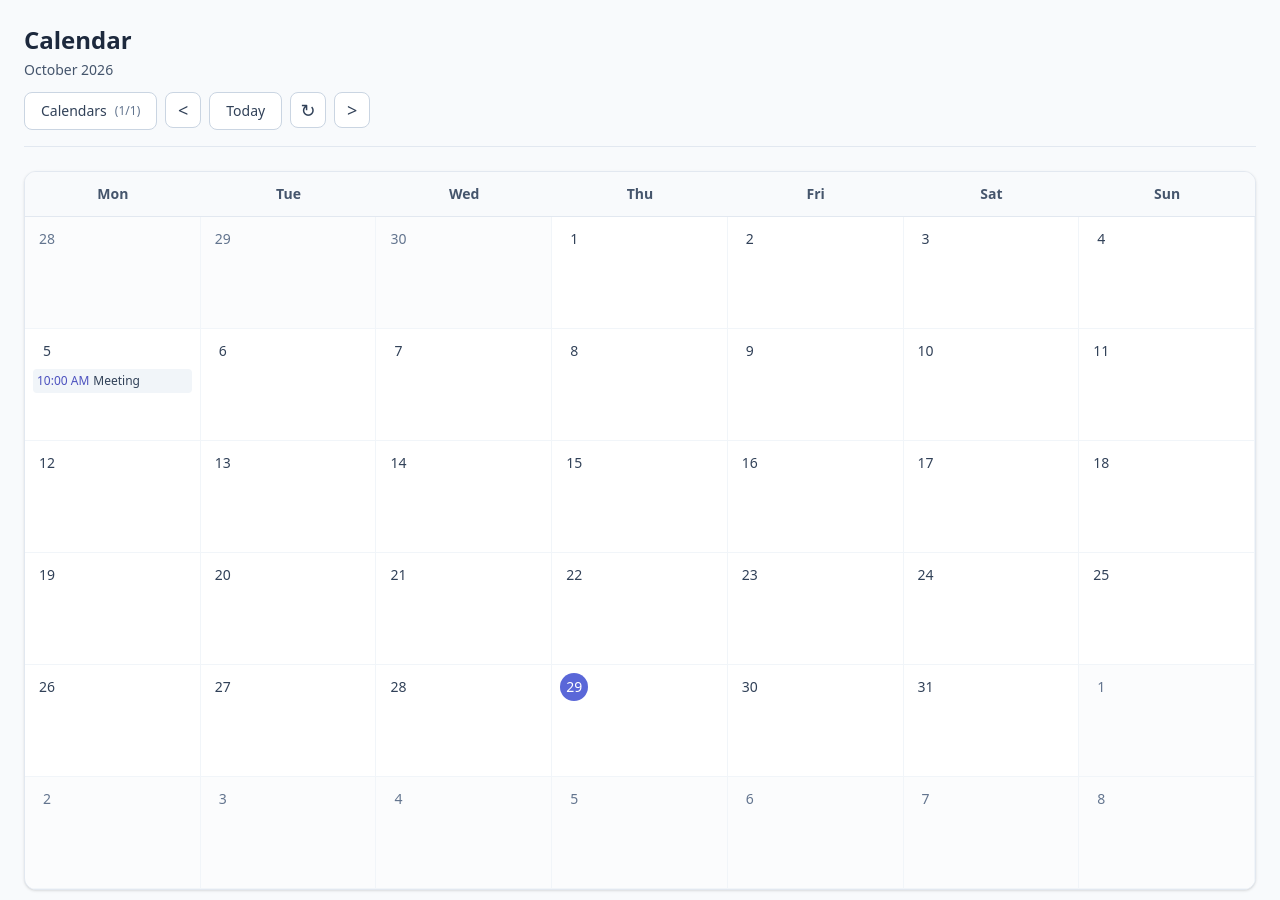
Calendar › shows "No profile found" when no person matches the attendee
The width and height of the screenshot is (1280, 900).
Click the text "Meeting": coordinates (117, 380) [93,372,140,389]
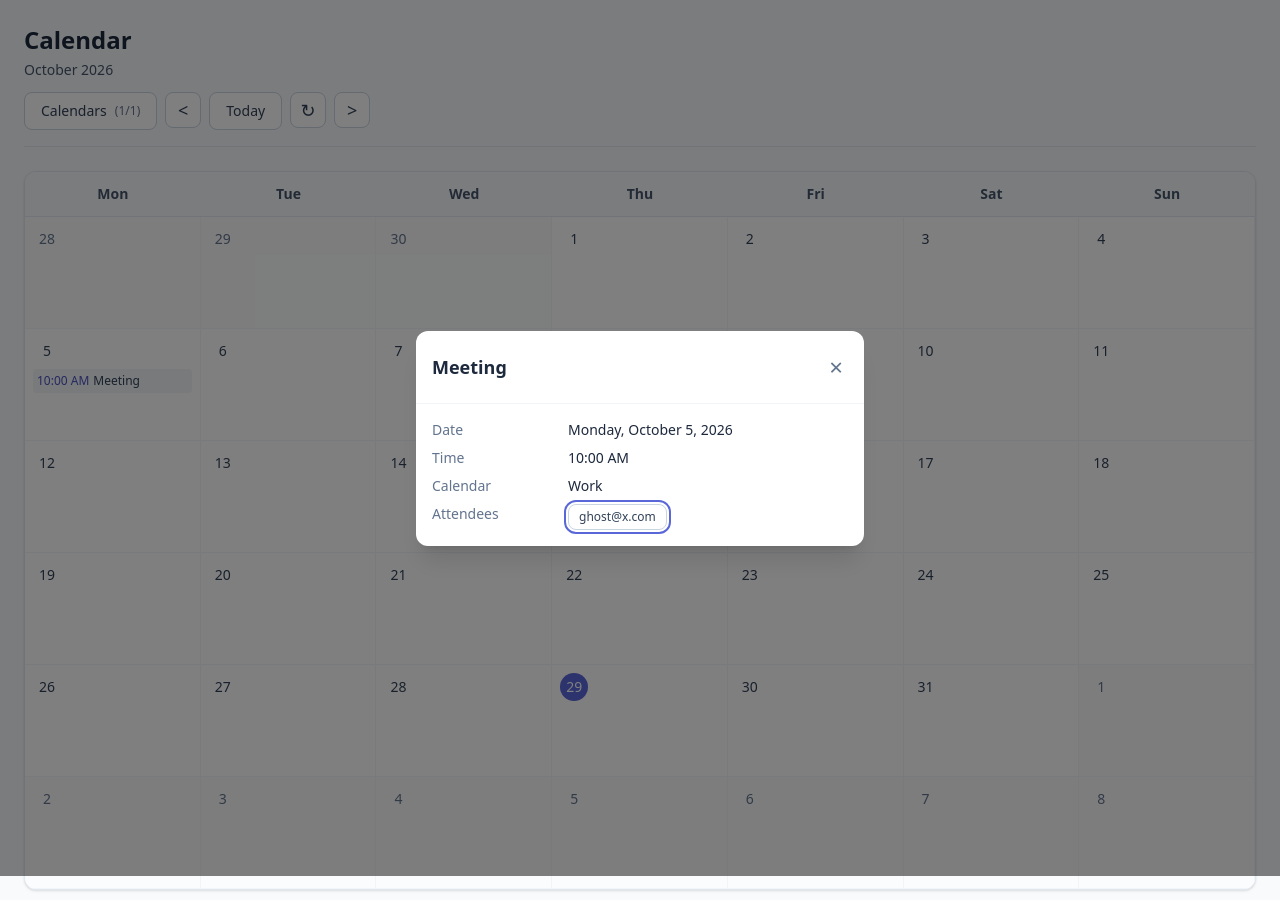
Click the button "ghost@x.com": coordinates (617, 516) [568,504,667,530]
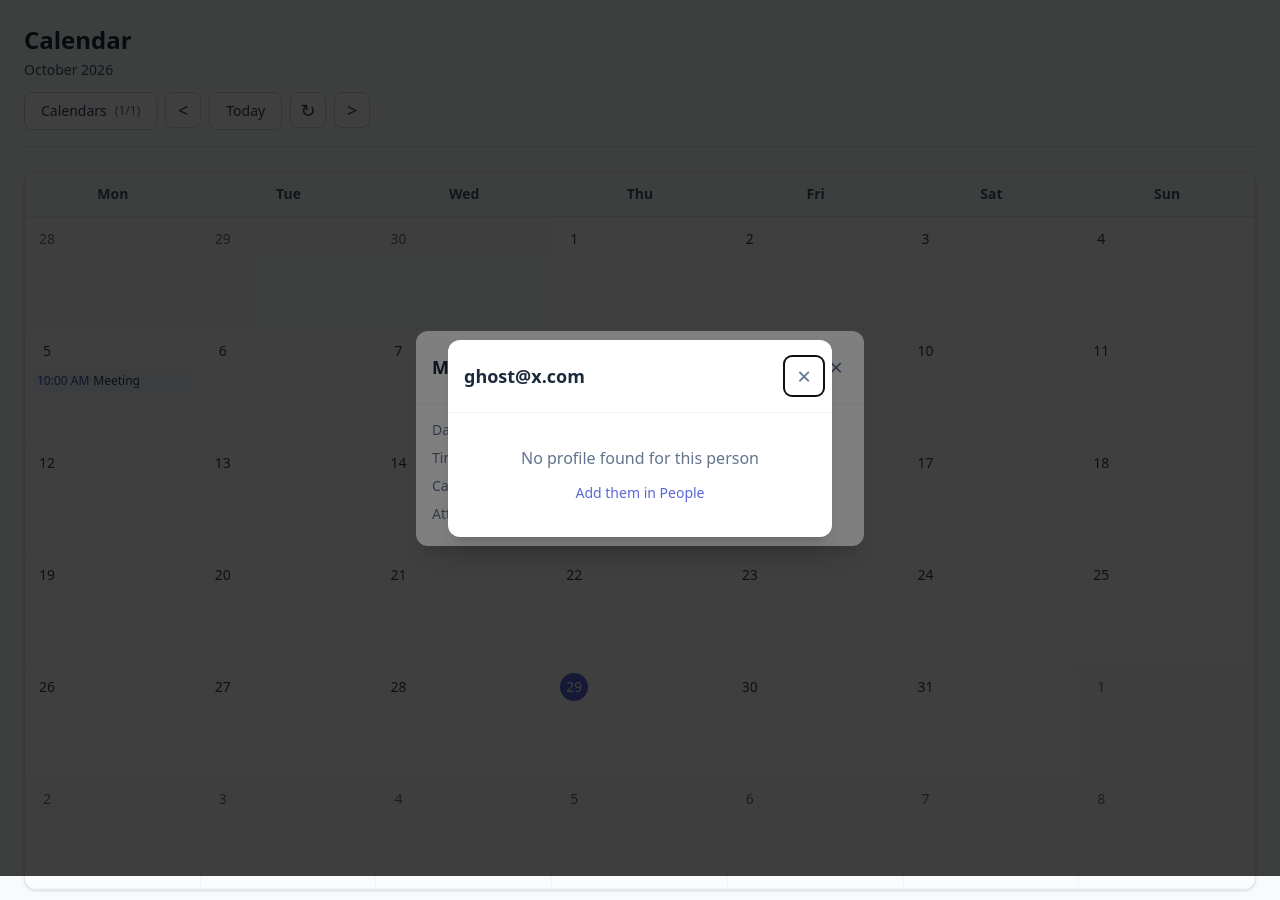
expect the text "No profile found for this person" is shown: met, box [521,446,759,468]
